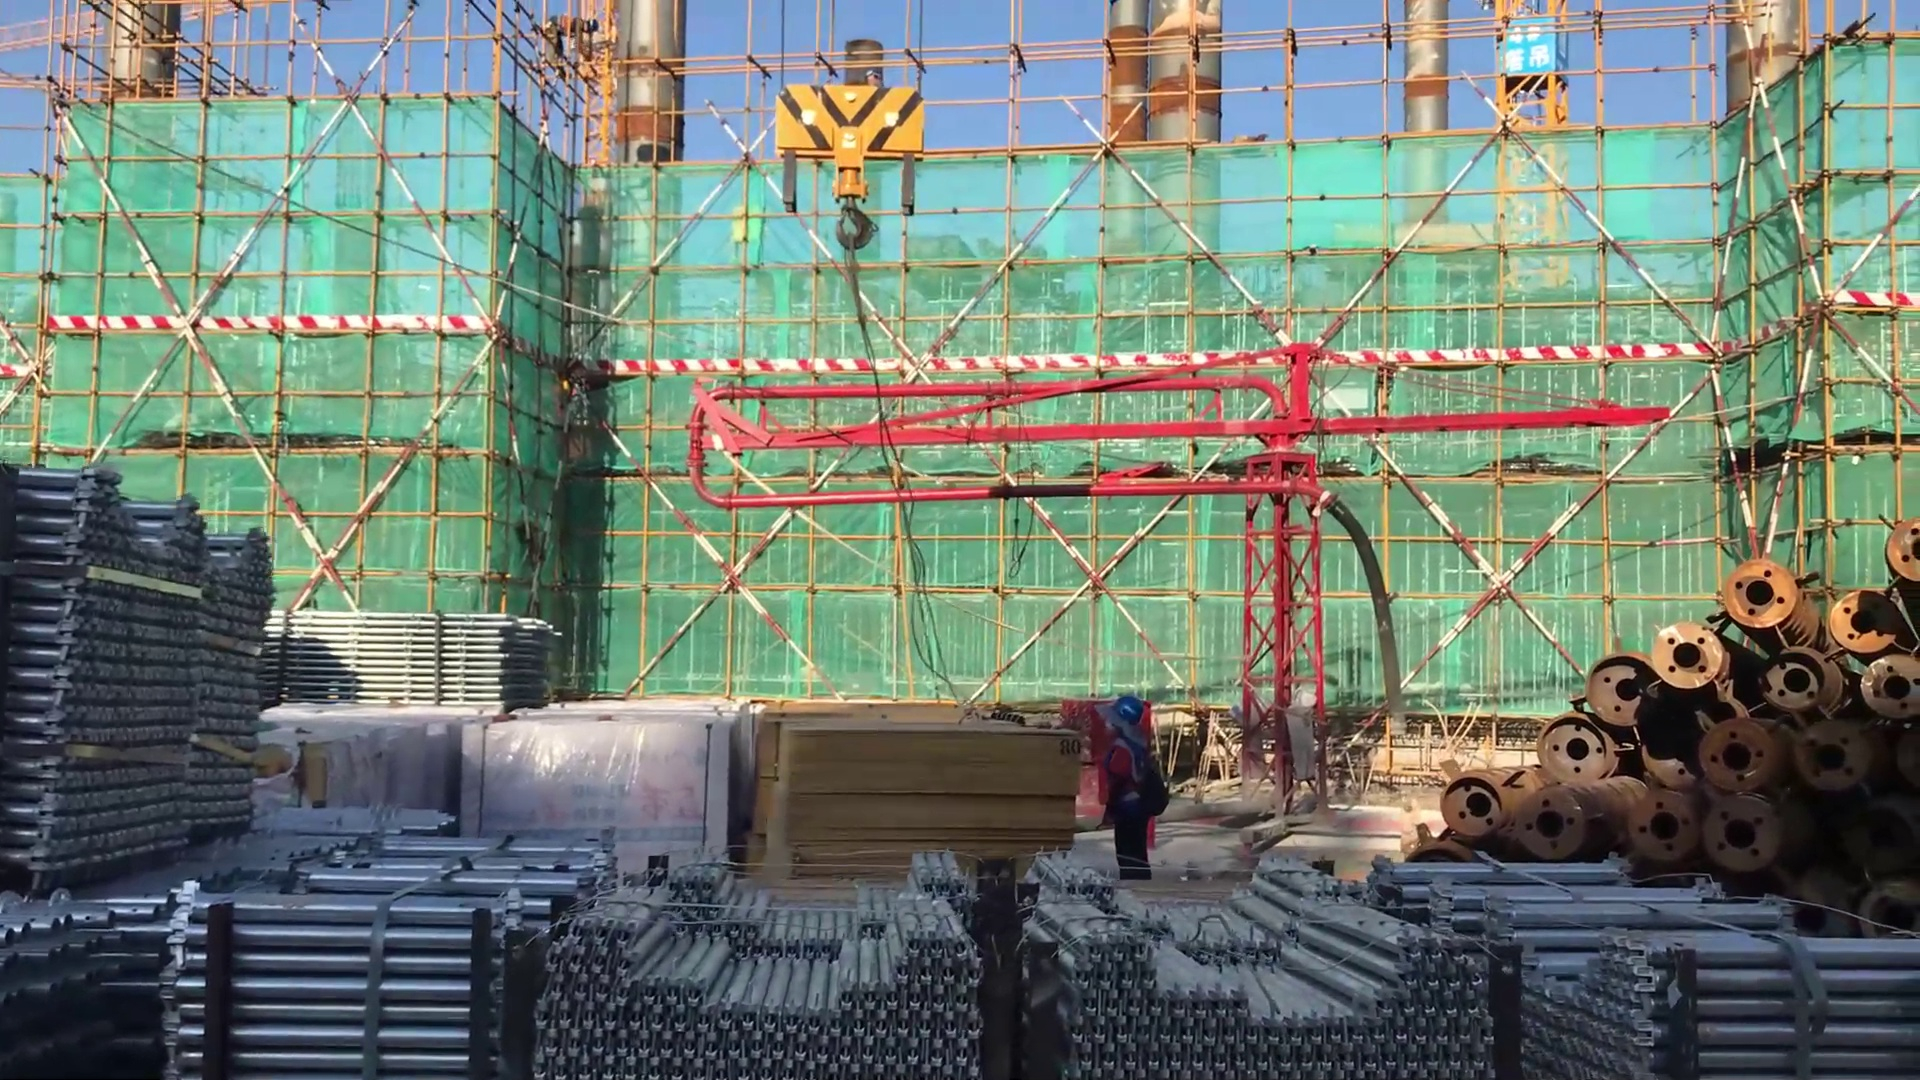board: (747, 704, 1081, 883)
helmet: (1109, 691, 1154, 733)
hook: (754, 64, 954, 306)
person: (1097, 690, 1163, 887)
scaffold: (1, 778, 620, 1079), (1, 452, 287, 887), (1394, 853, 1919, 1080), (529, 846, 1001, 1080), (1037, 846, 1503, 1080), (258, 599, 555, 723)
slogan: (1500, 16, 1568, 89)
vest: (1103, 735, 1158, 825)
